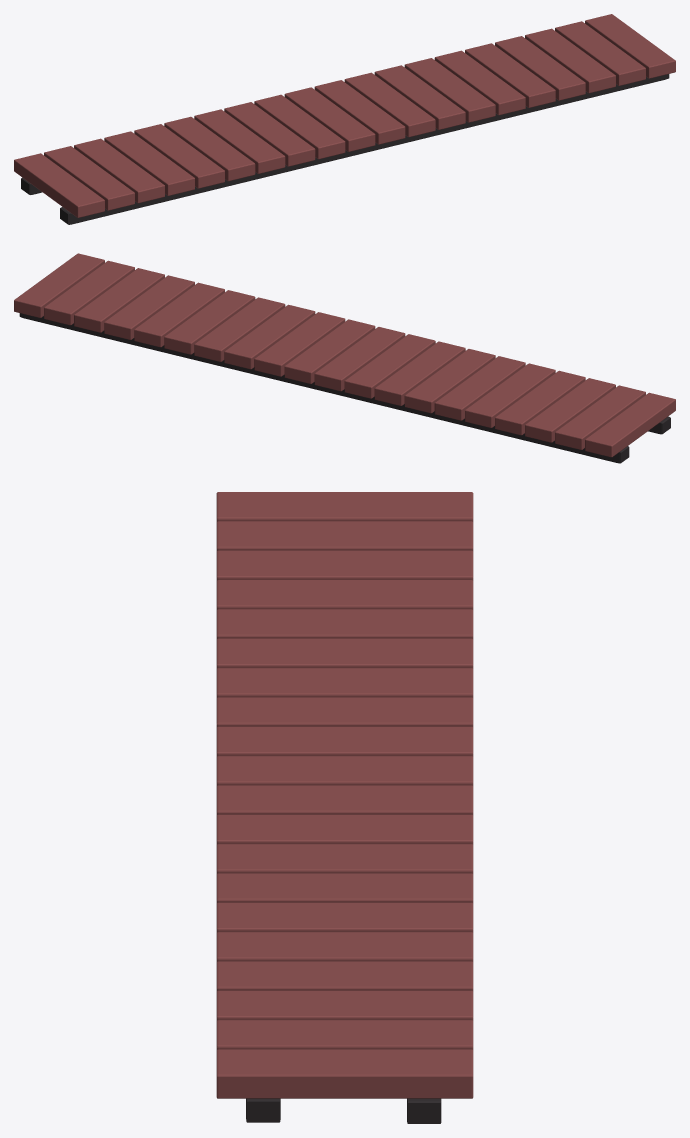
File: Conveyor.fbx
3 views of the same model, one above another, from view 1: azimuth 30°, elevation 25°; view 2: azimuth 150°, elevation 25°; view 3: azimuth 270°, elevation 25° (orthographic). The views are drawn at different scales.
Parts seen in each view (by area): view 1: Conveyor; view 2: Conveyor; view 3: Conveyor.
Part boxes in pixels (x1=…): Conveyor: x1=14, y1=14, x2=675, y2=224; Conveyor: x1=14, y1=253, x2=675, y2=463; Conveyor: x1=216, y1=492, x2=473, y2=1123.
Size of the model in its own units: 10.83 by 2 by 0.4107.
